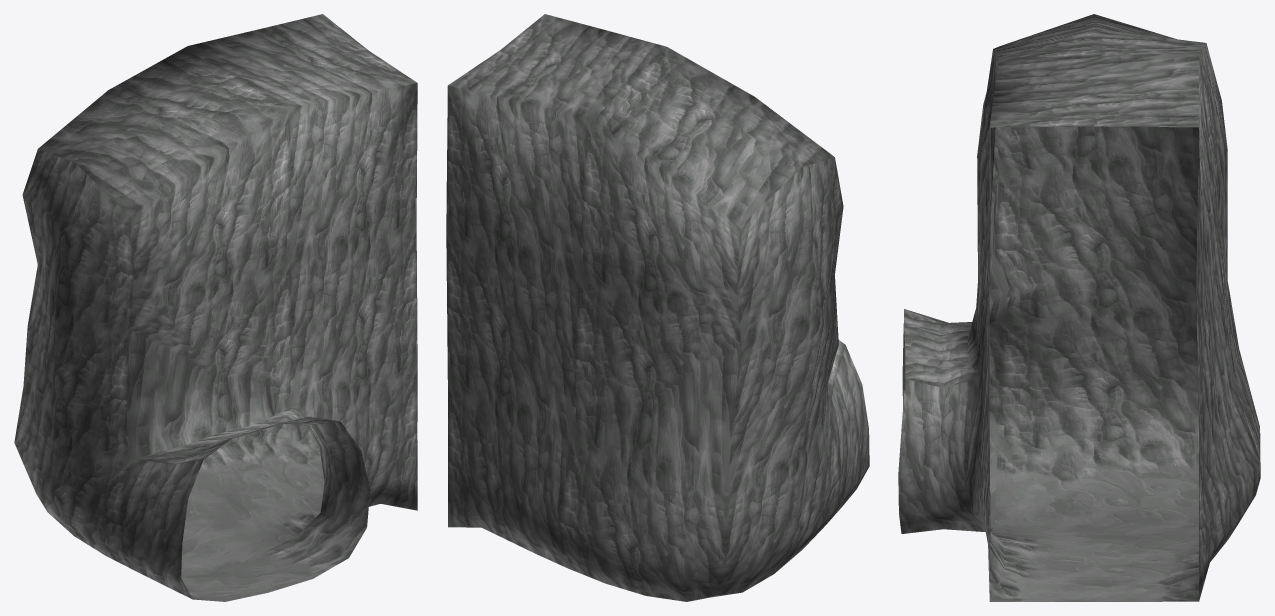
File: SWORDLIGHT20_PS-AREA03-04TRANS_03.fbx
The picture shows the model from 3 angles, left to right: view 1: azimuth 30°, elevation 25°; view 2: azimuth 150°, elevation 25°; view 3: azimuth 270°, elevation 25°; orthographic projection. The views are drawn at different scales.
Parts seen in each view (by area): view 1: SWORDLIGHT20_PS-AREA03-04TRANS_03; view 2: SWORDLIGHT20_PS-AREA03-04TRANS_03; view 3: SWORDLIGHT20_PS-AREA03-04TRANS_03.
Boxes of the visible parts, x1,y1,x2,y2 form: SWORDLIGHT20_PS-AREA03-04TRANS_03: (14, 14, 417, 601); SWORDLIGHT20_PS-AREA03-04TRANS_03: (446, 14, 869, 601); SWORDLIGHT20_PS-AREA03-04TRANS_03: (898, 14, 1260, 601).
Bounding box in the file's own units: 115834 × 156199 × 103845.
3 materials, 3 textured.
